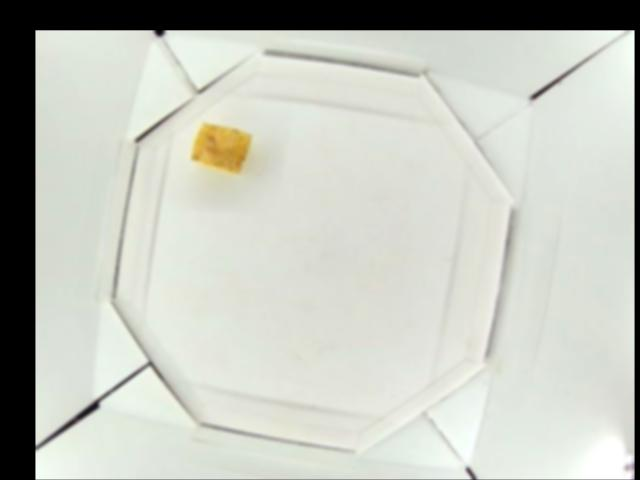Potato: (189, 120, 253, 172)
